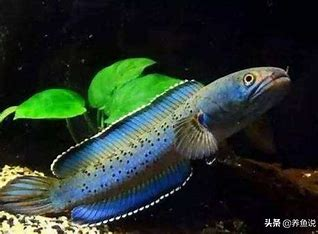Fish: (0, 56, 303, 228)
